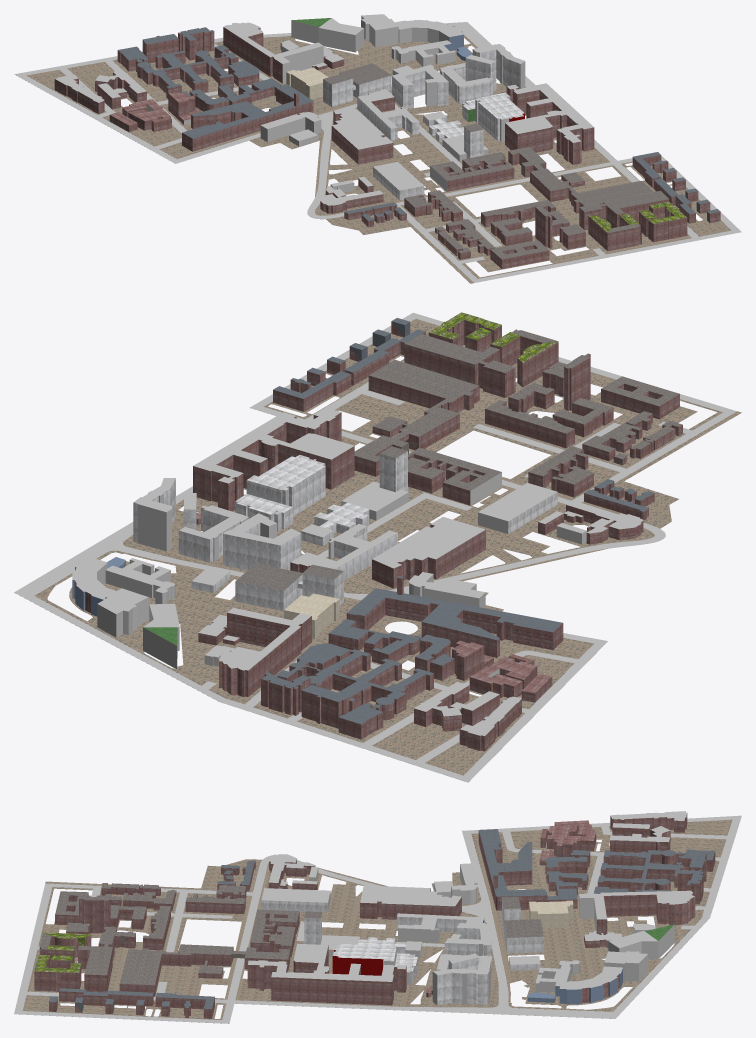
File: ELEC330CampusTextured.dae
3 renders of one model, top to bottom at view 1: azimuth 30°, elevation 25°; view 2: azimuth 150°, elevation 25°; view 3: azimuth 270°, elevation 25°, orthographic. The views are drawn at different scales.
Parts seen in each view (by area): view 1: Body1; view 2: Body1; view 3: Body1.
Boxes of the visible parts, x1,y1,x2,y2 form: Body1: (14,14,741,283); Body1: (14,312,741,782); Body1: (14,811,741,1023).
Bounding box in the file's own units: 621 × 917 × 46.85.
